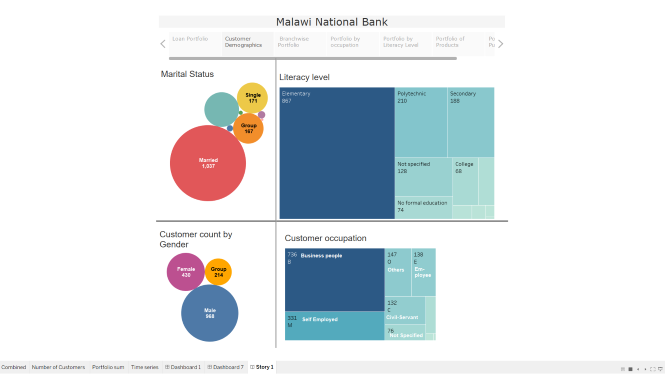

The page's visual inventory and layout, read from the dashboard file:
{"tool":"tableau","page":{"name":"Dashboard 7","canvas":[1000,800],"ordinal":6},"visuals":[{"type":"worksheet","title":"C: Marital status","mark":"Circle","box":[3,8,462,385]},{"type":"worksheet","title":"C: Literacy Level","mark":"Automatic","box":[344,17,628,474]},{"type":"worksheet","title":"C: Occupation","mark":"Automatic","box":[360,481,514,318]},{"type":"text","box":[407,535,172,29]},{"type":"text","box":[735,562,57,71]},{"type":"text","box":[657,576,100,30]},{"type":"text","box":[653,713,100,30]},{"type":"text","box":[410,719,110,30]},{"type":"text","box":[663,765,103,30]}]}

Visuals, with their boxes on the page's 1000x800 design canvas (x1, y1, x2, y2). These are canvas units, not pixel positions in the 665x375 screenshot, which may show the page scaled, cropped or inside an application window:
"C: Marital status" worksheet (Circle marks): 3,8,465,393
"C: Literacy Level" worksheet: 344,17,972,491
"C: Occupation" worksheet: 360,481,874,799
text: 407,535,579,564
text: 735,562,792,633
text: 657,576,757,606
text: 653,713,753,743
text: 410,719,520,749
text: 663,765,766,795
